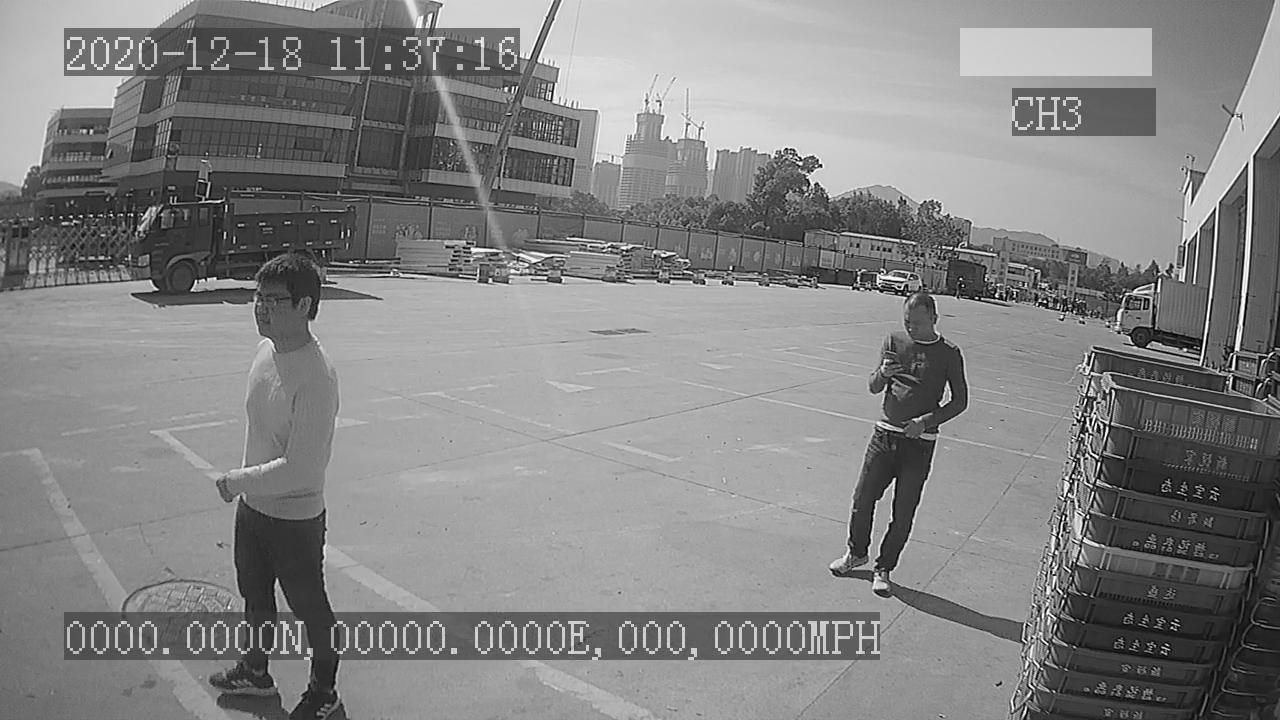person: (823, 288, 971, 602)
